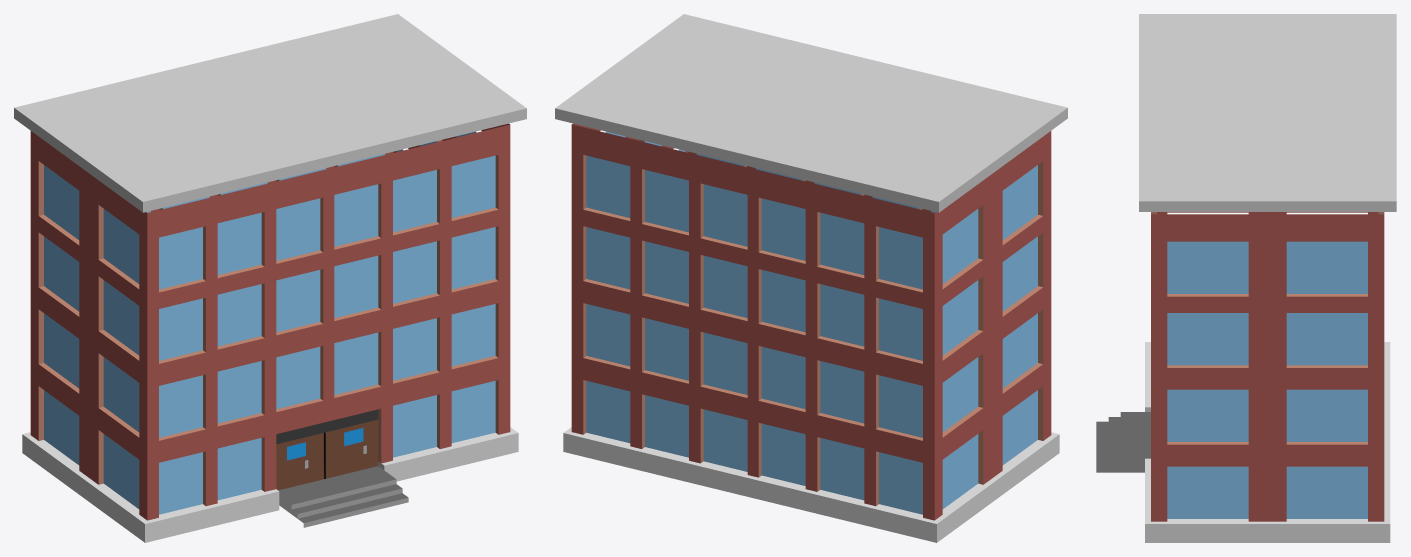
The model's file is Building1.fbx.
3 renders of one model, left to right at view 1: azimuth 30°, elevation 25°; view 2: azimuth 150°, elevation 25°; view 3: azimuth 270°, elevation 25°, orthographic.
Visible parts, largest first — view 1: Cube; view 2: Cube; view 3: Cube.
Boxes of the visible parts, box(x1,y1,x2,y2) form: Cube: box(14, 14, 526, 542); Cube: box(555, 14, 1067, 542); Cube: box(1096, 14, 1396, 542).
Bounding box in the file's own units: 3.66 × 3.14 × 2.48.
